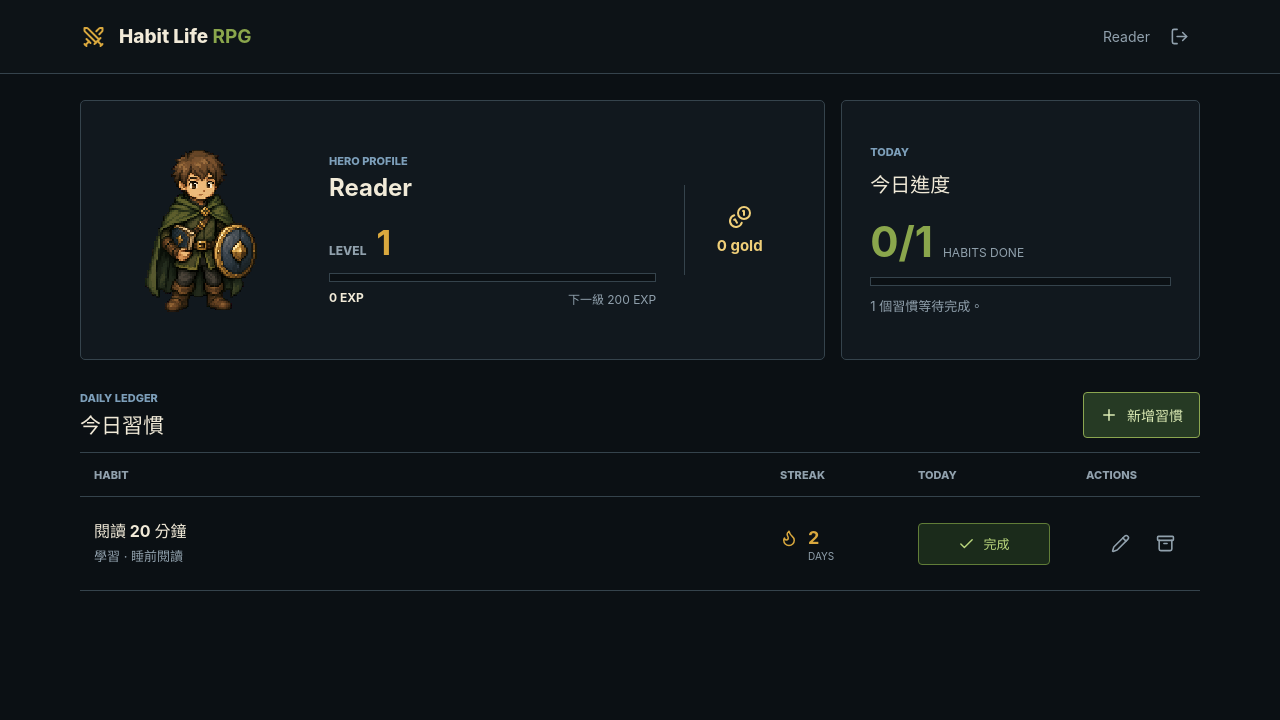
Habit Life RPG reader workflow › loads an existing session and checks in a ready habit
Click the button with aria-label "完成閱讀 20 分鐘": (984, 544) [918,522,1050,564]
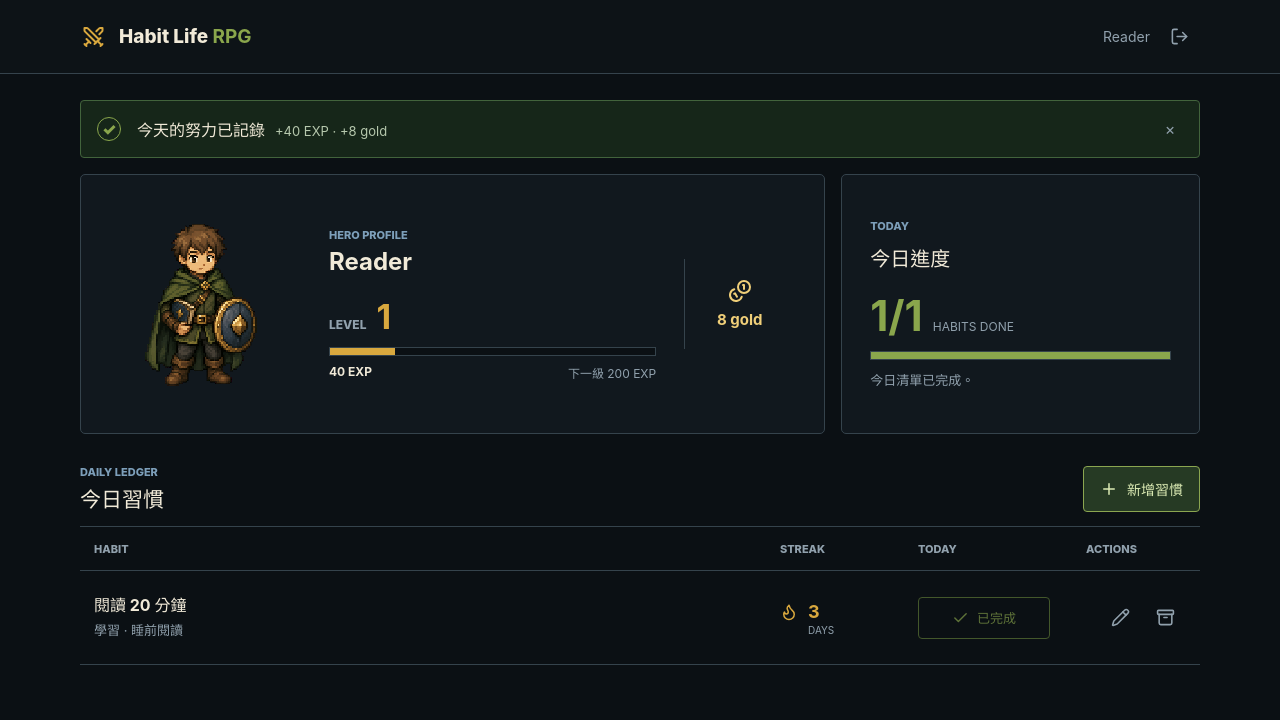
Expected: the text "今天的努力已記錄" is shown, [137,117,265,141]
Expected: the text "40 EXP" is shown, [329,364,372,380]
Expected: the text "8 gold" is shown, [717,310,762,329]
